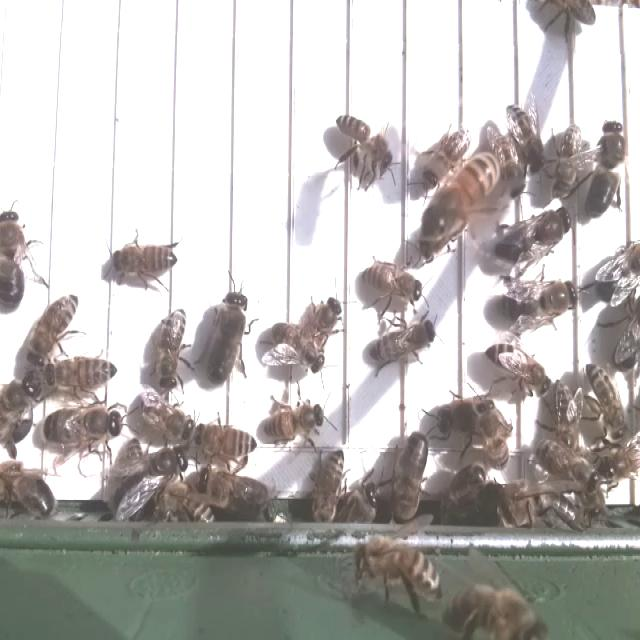Drone: (495, 204, 574, 269), (204, 285, 250, 389), (584, 116, 627, 221), (41, 403, 122, 458), (499, 278, 580, 330), (0, 203, 28, 315)
Worker: (20, 291, 81, 362), (483, 341, 554, 398), (367, 315, 438, 371), (335, 111, 394, 178), (584, 361, 630, 442), (131, 388, 195, 445), (421, 122, 472, 192), (503, 100, 549, 177), (45, 352, 120, 397), (270, 319, 328, 376), (362, 259, 426, 309), (261, 400, 330, 446), (155, 303, 188, 396), (112, 238, 179, 283), (195, 421, 260, 463)
